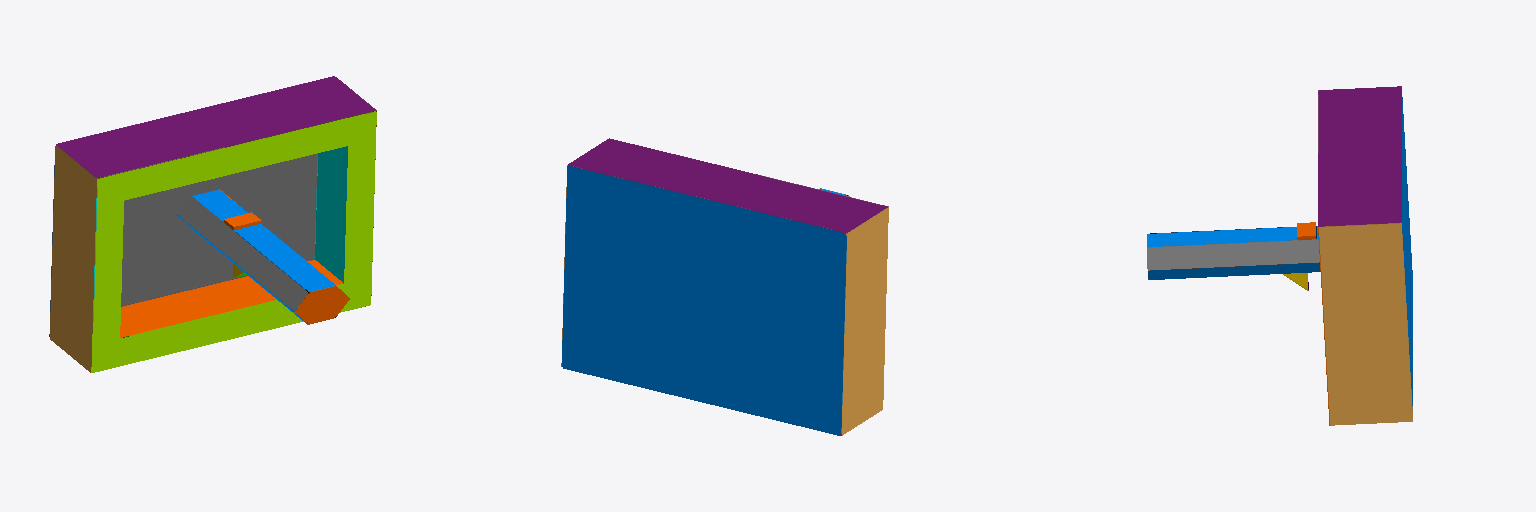
3 renders of one model, left to right at view 1: azimuth 30°, elevation 25°; view 2: azimuth 150°, elevation 25°; view 3: azimuth 270°, elevation 25°, orthographic.
Visible parts, largest first — view 1: Thor_Aligned; view 2: Thor_Aligned; view 3: Thor_Aligned.
Boxes of the visible parts, x1=… form: Thor_Aligned: x1=49, y1=76, x2=376, y2=372; Thor_Aligned: x1=561, y1=138, x2=888, y2=435; Thor_Aligned: x1=1147, y1=86, x2=1412, y2=425.
Bounding box in the file's own units: 0.25 × 0.1732 × 0.2063.
1 materials, 1 textured.